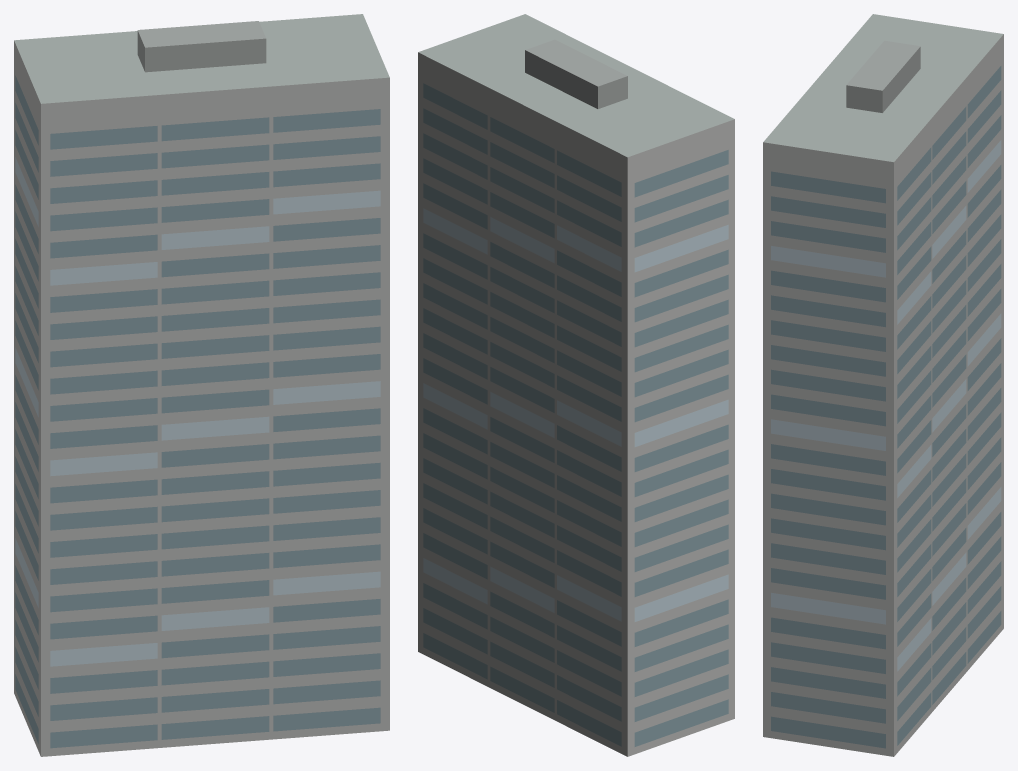
The model's file is fallback-jamsil-els-109.glb.
3 views of the same model, side by side, from view 1: azimuth 30°, elevation 25°; view 2: azimuth 150°, elevation 25°; view 3: azimuth 270°, elevation 25° (orthographic). The views are drawn at different scales.
Parts seen in each view (by area): view 1: fallback-jamsil-els-109; view 2: fallback-jamsil-els-109; view 3: fallback-jamsil-els-109.
Boxes of the visible parts, bbox=[...] form: fallback-jamsil-els-109: bbox=[14, 14, 389, 756]; fallback-jamsil-els-109: bbox=[418, 14, 734, 756]; fallback-jamsil-els-109: bbox=[763, 14, 1003, 756].
Bounding box in the file's own units: 34 × 66 × 23.33.
